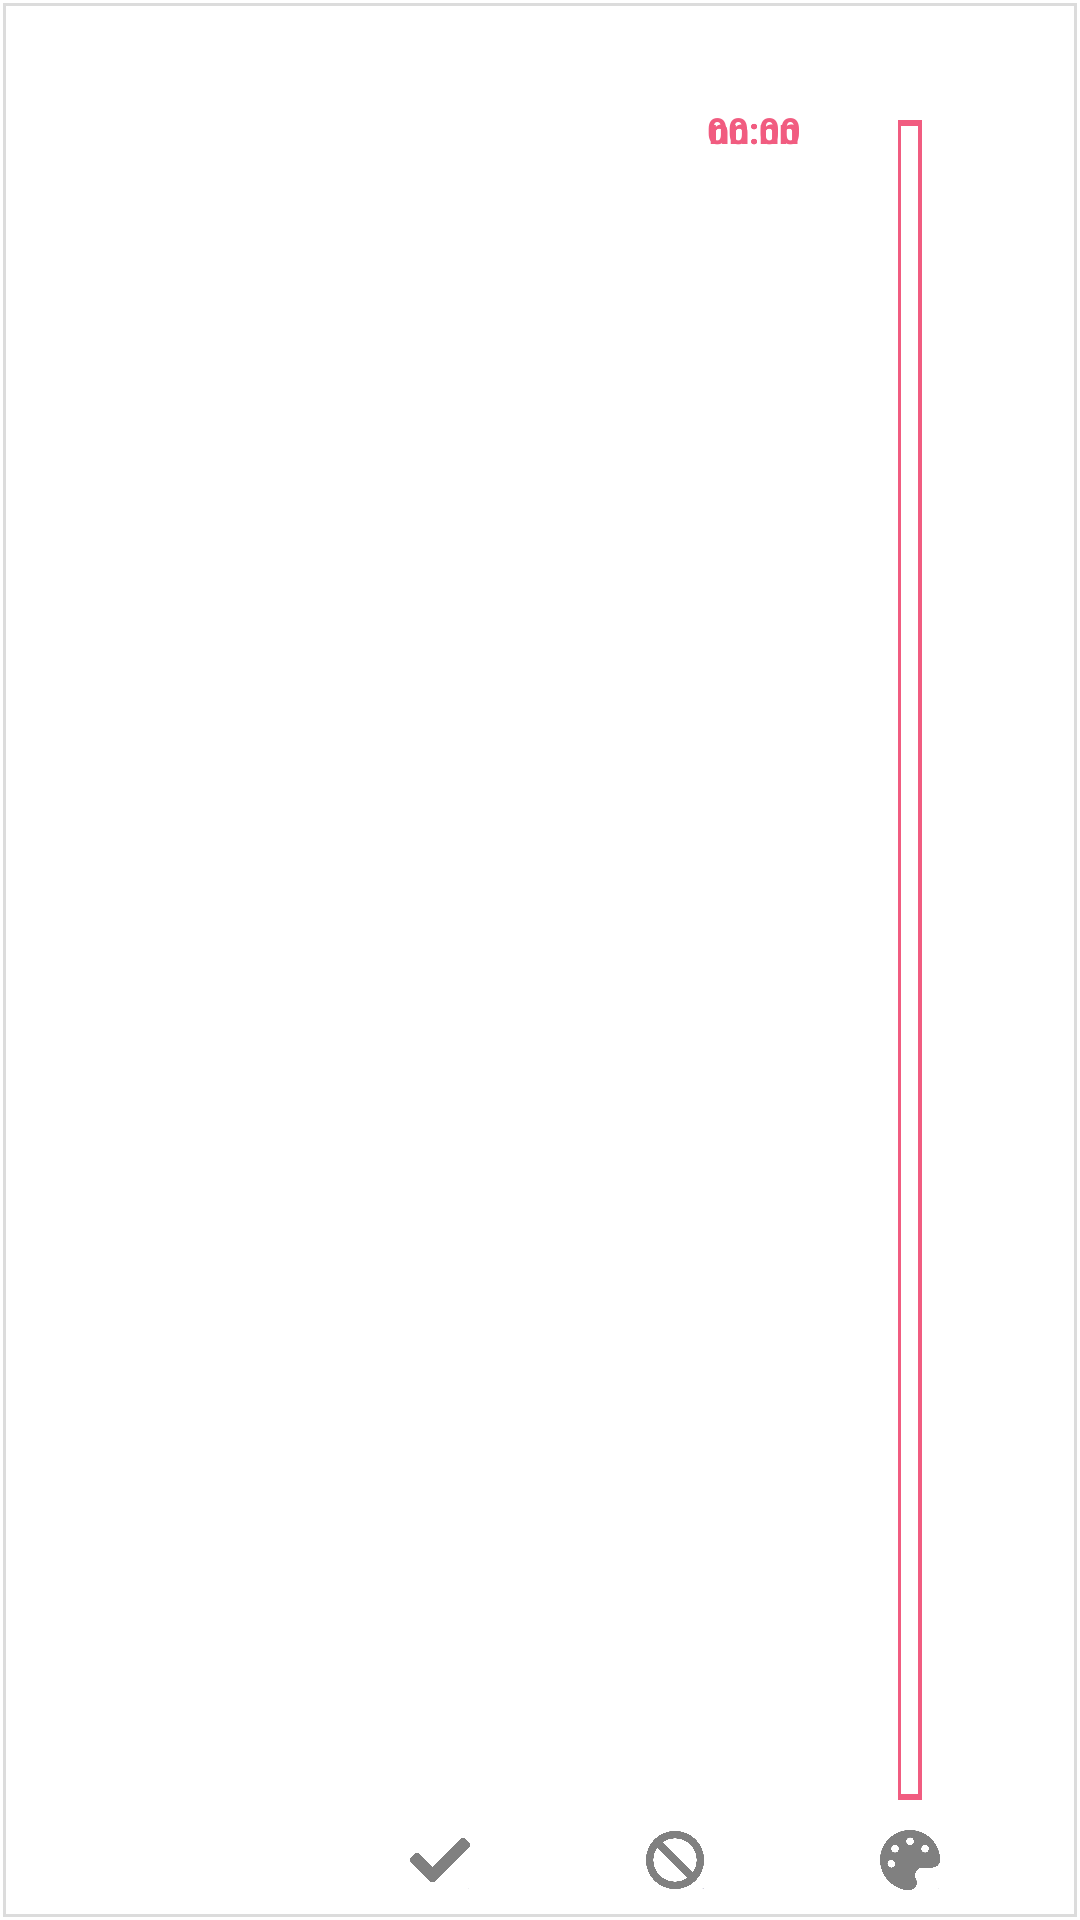

Named icons in this screenshot (1080 x 1920) and their centers, (x,y):
builday cancel: (675,1860)
builday ok: (440,1860)
builday palette: (910,1860)
